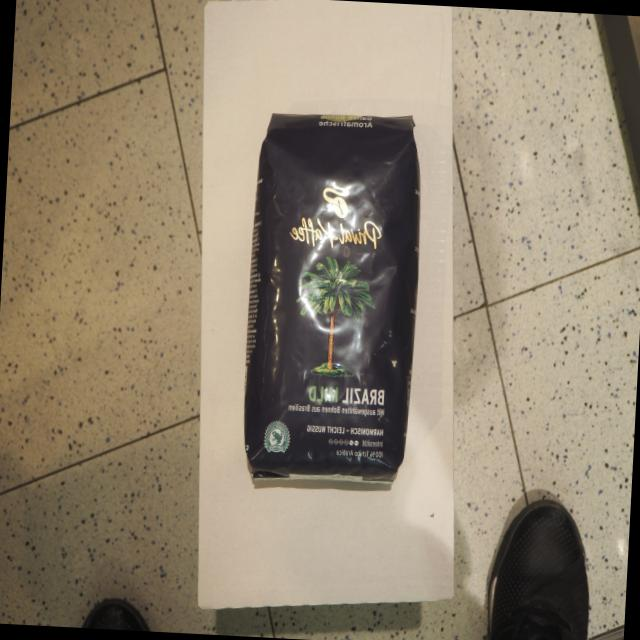BM Bohne: (236, 106, 427, 494)
